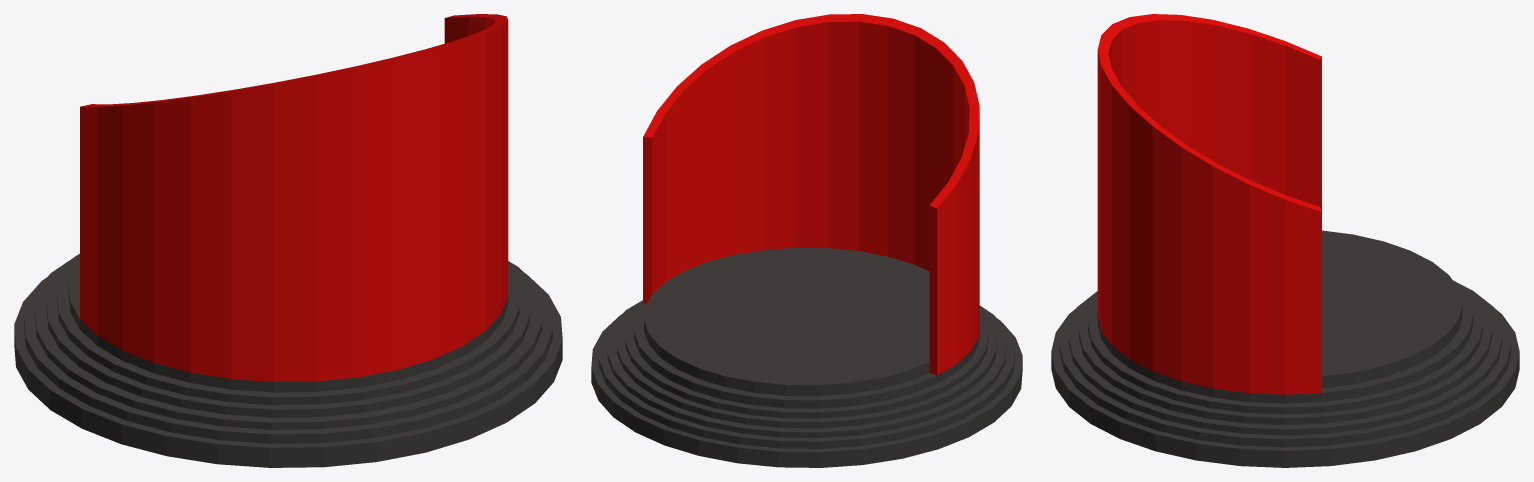
File: teliporter.fbx
3 renders of one model, left to right at view 1: azimuth 30°, elevation 25°; view 2: azimuth 150°, elevation 25°; view 3: azimuth 270°, elevation 25°, orthographic. The views are drawn at different scales.
Parts seen in each view (by area): view 1: Cylinder; view 2: Cylinder; view 3: Cylinder.
Part boxes in pixels (x1,y1,x2,y2): Cylinder: [14, 14, 562, 467]; Cylinder: [591, 14, 1022, 467]; Cylinder: [1051, 14, 1519, 467].
Bounding box in the file's own units: 760 × 760 × 572.
